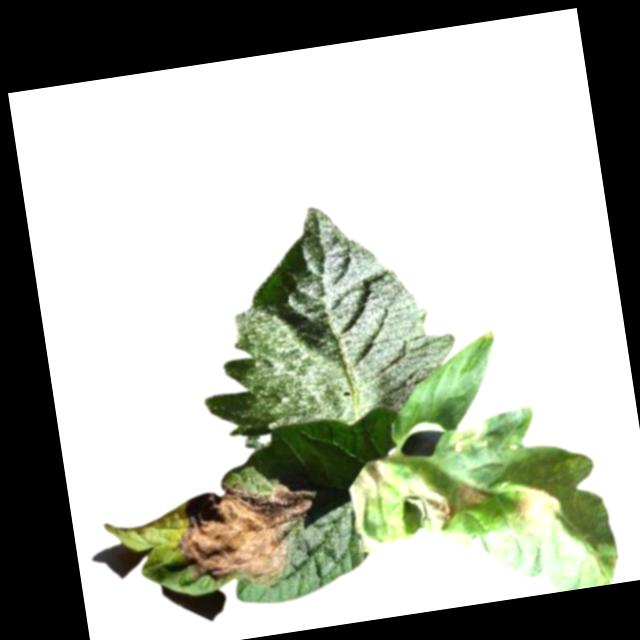Late_blight: (165, 468, 323, 596), (339, 455, 399, 539), (400, 465, 456, 532), (506, 477, 563, 532), (445, 420, 492, 455), (455, 477, 487, 508)
